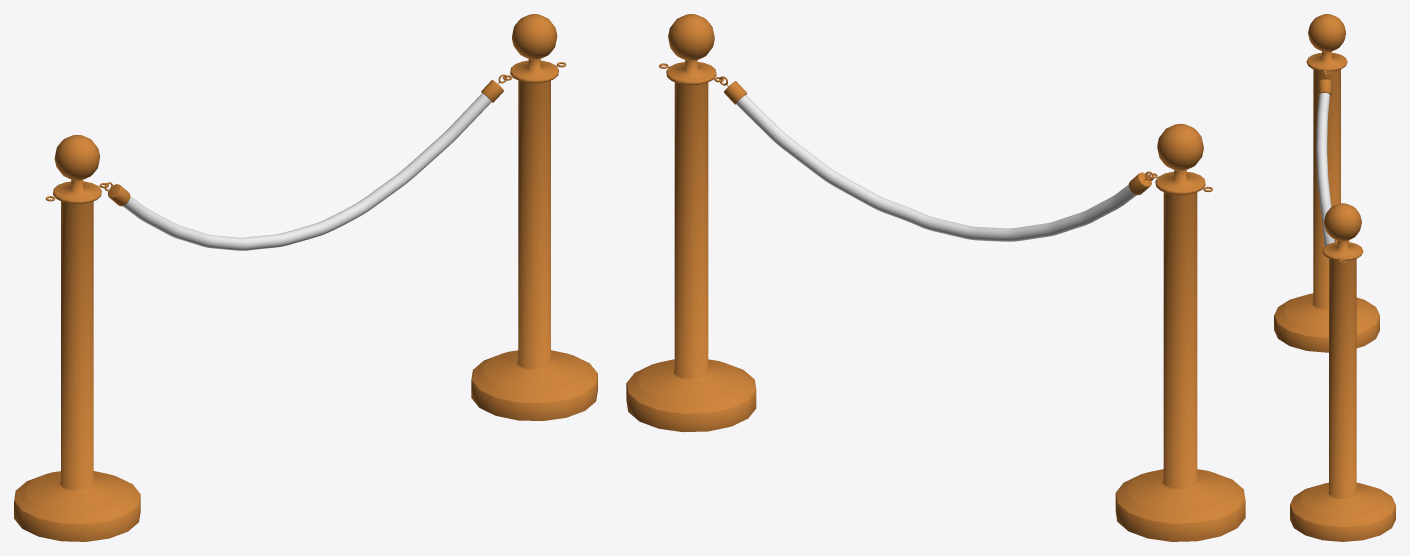
The model's file is aderski.fbx.
3 views of the same model, side by side, from view 1: azimuth 30°, elevation 25°; view 2: azimuth 150°, elevation 25°; view 3: azimuth 270°, elevation 25° (orthographic). The views are drawn at different scales.
Visible parts, largest first — view 1: corda; view 2: corda; view 3: corda.
Part boxes in pixels (x1,y1,x2,y2): corda: (14,14,597,541); corda: (626,14,1245,541); corda: (1274,14,1395,541).
Size of the model in its own units: 157 by 98.11 by 34.46.
